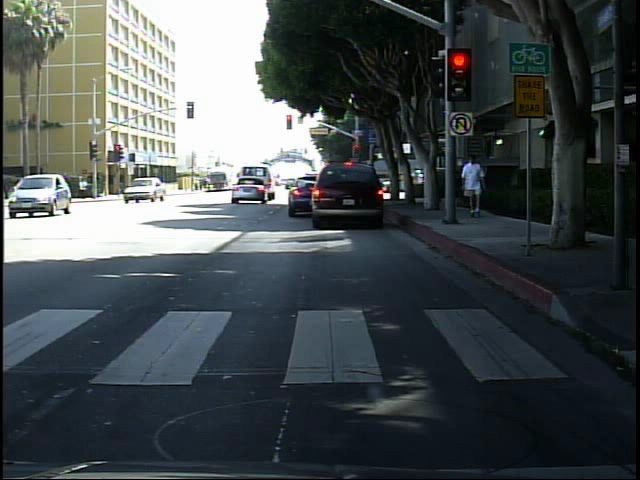person: (461, 151, 487, 221), (77, 173, 92, 200)
